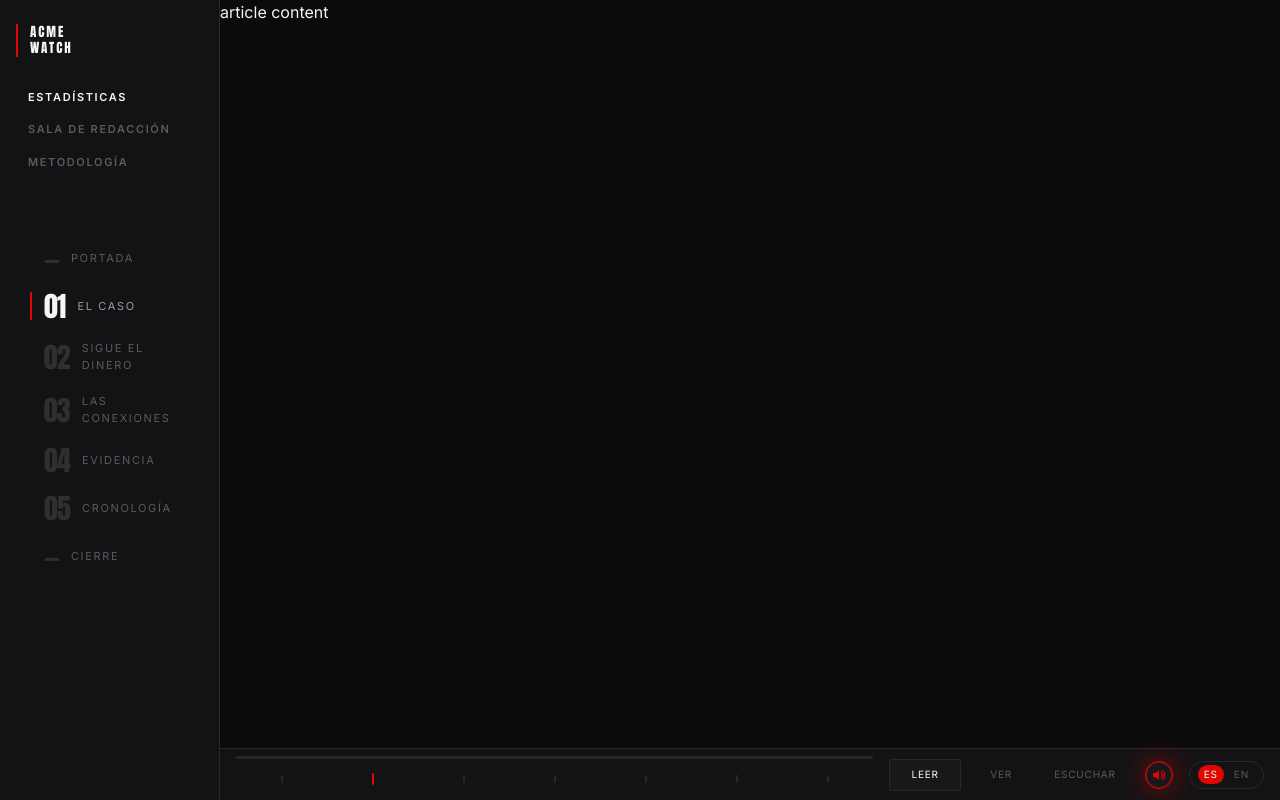
AppShell — brand + locale › toggles language via the transport switch and persists to localStorage
This screenshot has width=1280, height=800.
Expected: the button "LEER" is shown, [889,758,961,790]
Click the switch named "Cambiar idioma" at (1226, 774), box [1189,760,1264,788]
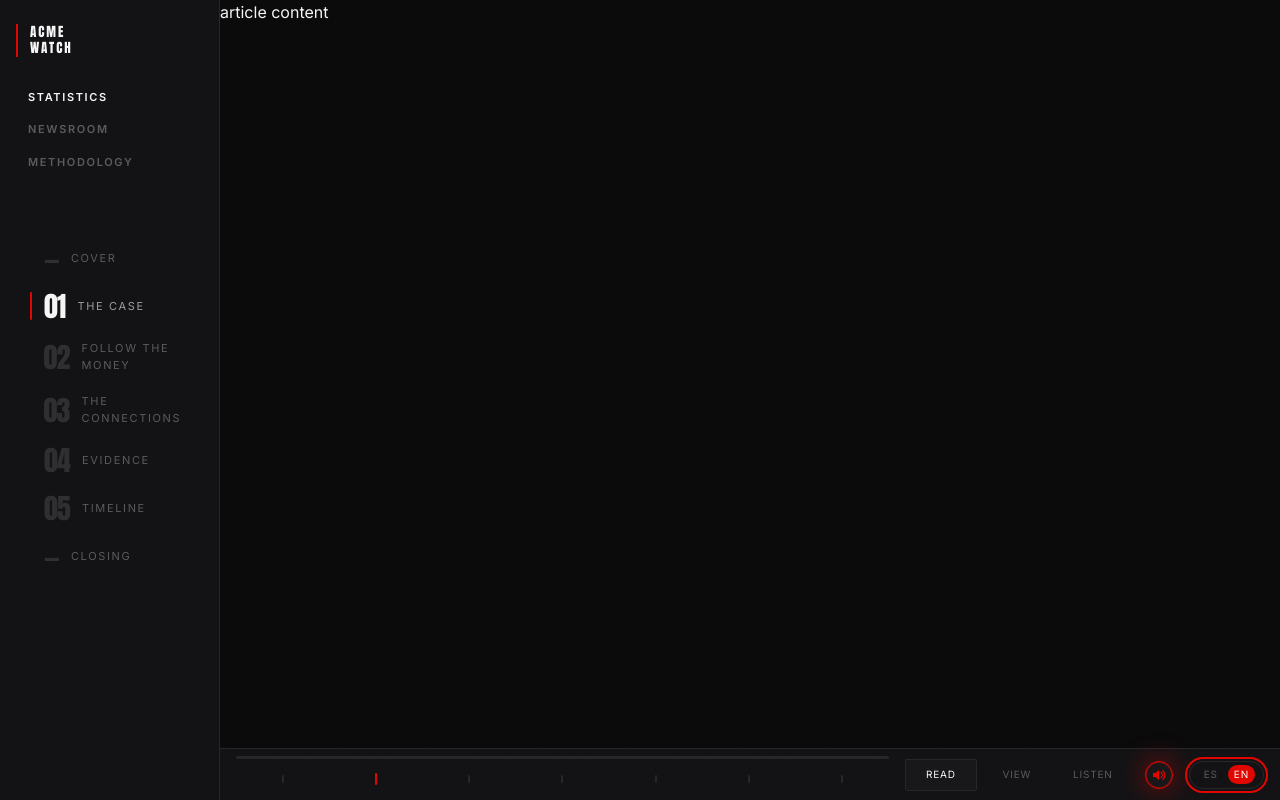
Expected: the button "READ" is shown, [905,758,977,790]
